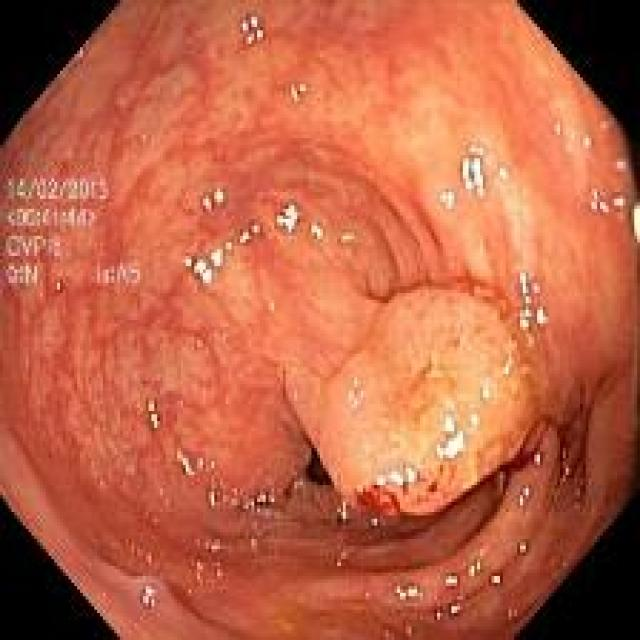Polyps: (312, 287, 542, 517)
